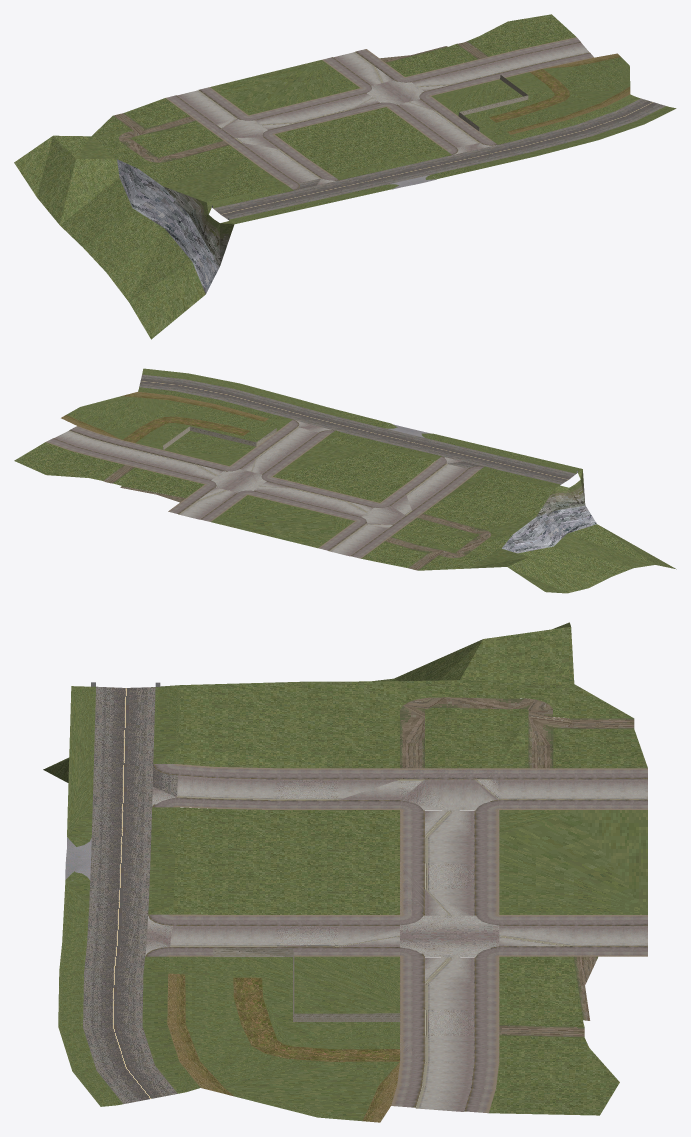
File: n_lodbit_09.obj
3 views of the same model, one above another, from view 1: azimuth 30°, elevation 25°; view 2: azimuth 150°, elevation 25°; view 3: azimuth 270°, elevation 25° (orthographic). The views are drawn at different scales.
Parts seen in each view (by area): view 1: n_lodbit_09; view 2: n_lodbit_09; view 3: n_lodbit_09.
Part boxes in pixels (bbox=[...]): n_lodbit_09: bbox=[14, 14, 676, 339]; n_lodbit_09: bbox=[14, 368, 676, 593]; n_lodbit_09: bbox=[43, 622, 647, 1122].
Size of the model in its own units: 248 by 40.03 by 122.
Materials: 18 (18 with a texture image).
